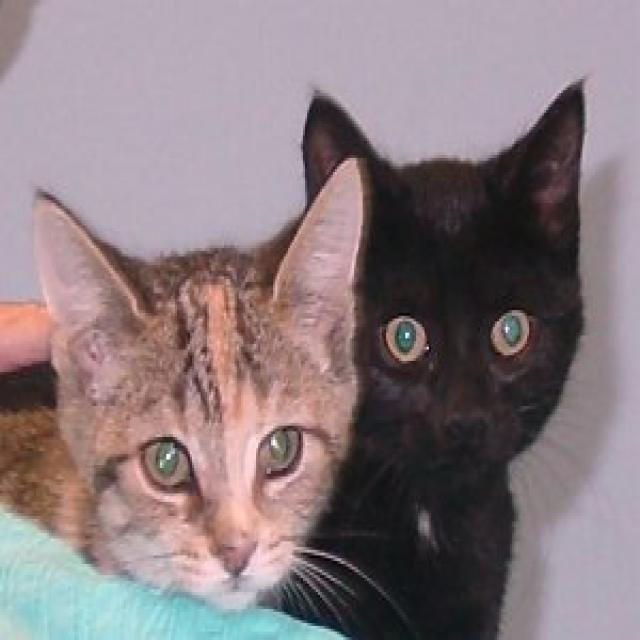Cats: (273, 71, 589, 637), (28, 161, 375, 617)
